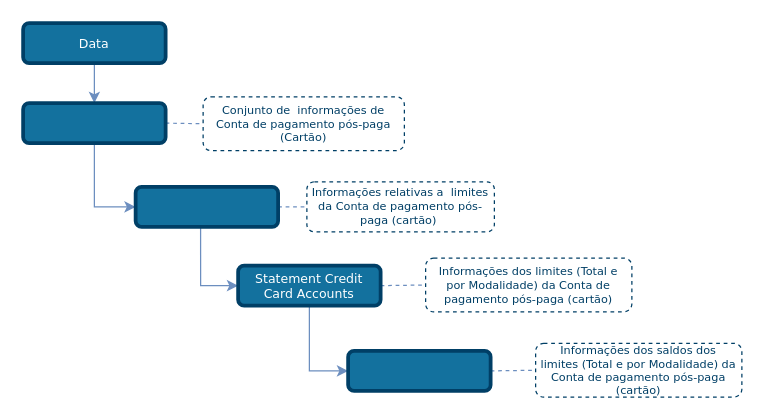
This 764x420 diagram has some shape labels left out. The box of each missing label's shape, as (x1, y1, x2, y2) in pixels:
Balances: (346, 348, 492, 392)
Credit Card Accounts: (21, 101, 167, 144)
Limits: (133, 184, 279, 228)
